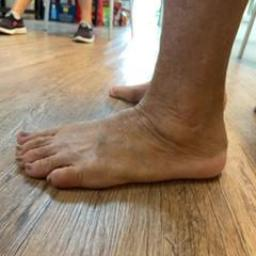Lateral View -Left Foot-: (8, 91, 246, 207)
